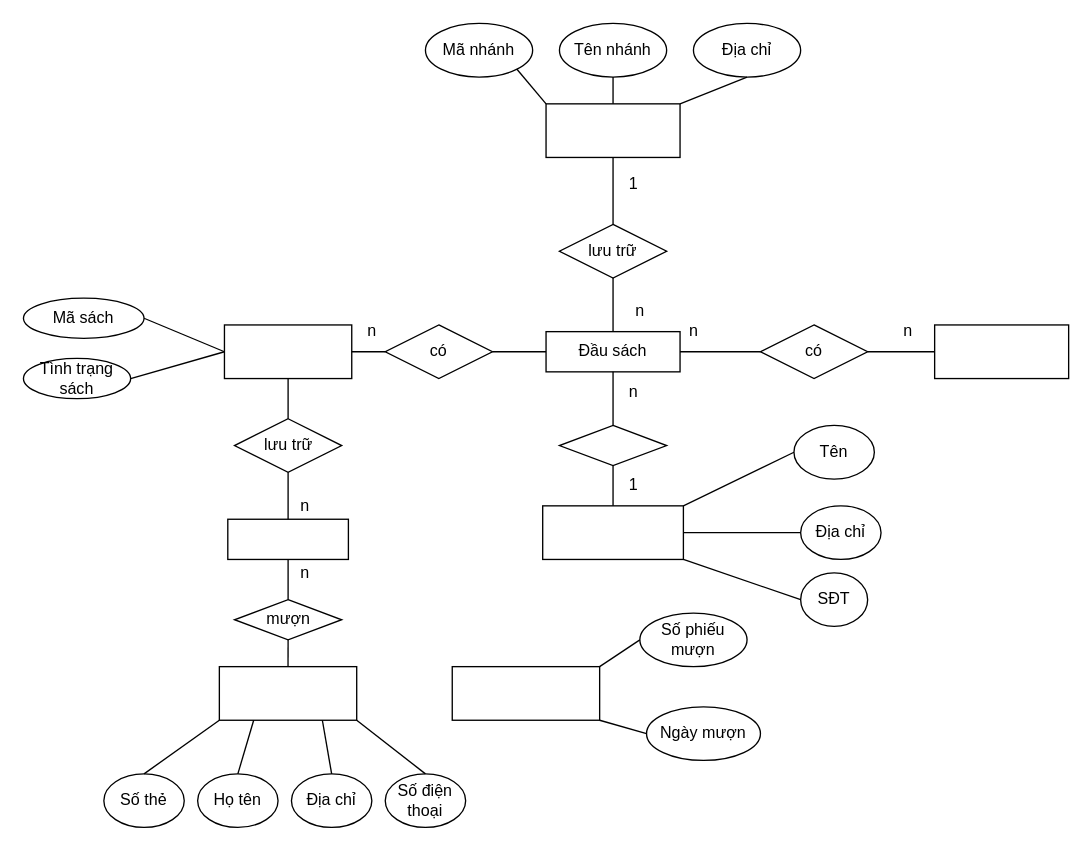
This 1092x851 diagram has some shape labels left out. The centre of each missing label's shape, as x and y in pixels:
"Người mượn sách" goes at pixel 287 692.
"Nhà xuất bản" goes at pixel 612 532.
"nhánh" goes at pixel 287 538.
"Phiếu mượn sách" goes at pixel 525 692.
"sách" goes at pixel 287 351.
"Thư viện" goes at pixel 612 130.
"Tác giả" goes at pixel 1001 351.
"xuất bản" goes at pixel 612 445.
